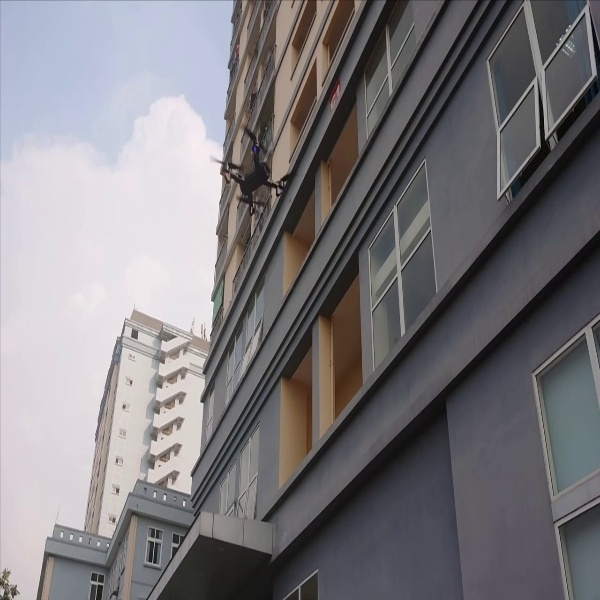drone: (206, 123, 295, 221)
